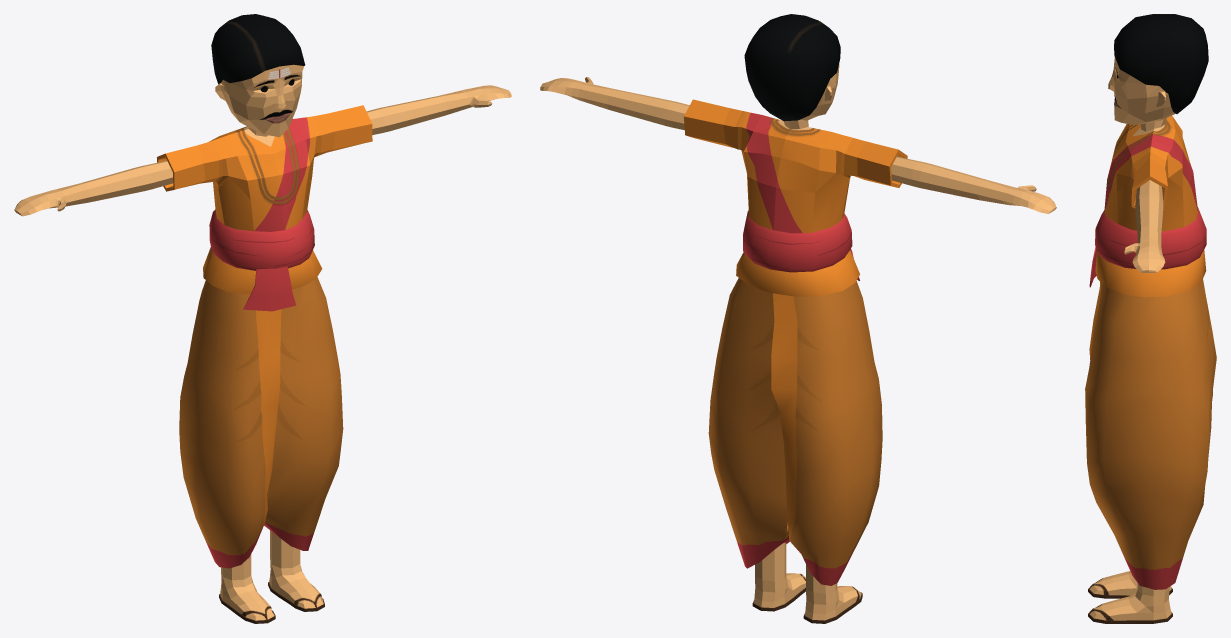
File: delh_char_02.fbx
3 renders of one model, left to right at view 1: azimuth 30°, elevation 25°; view 2: azimuth 150°, elevation 25°; view 3: azimuth 270°, elevation 25°, orthographic. The views are drawn at different scales.
Parts seen in each view (by area): view 1: delh_char_02; view 2: delh_char_02; view 3: delh_char_02.
Part boxes in pixels (x1,y1,x2,y2): delh_char_02: [14, 14, 511, 623]; delh_char_02: [540, 14, 1056, 623]; delh_char_02: [1085, 14, 1216, 623].
Size of the model in its own units: 164 by 180 by 36.8.
